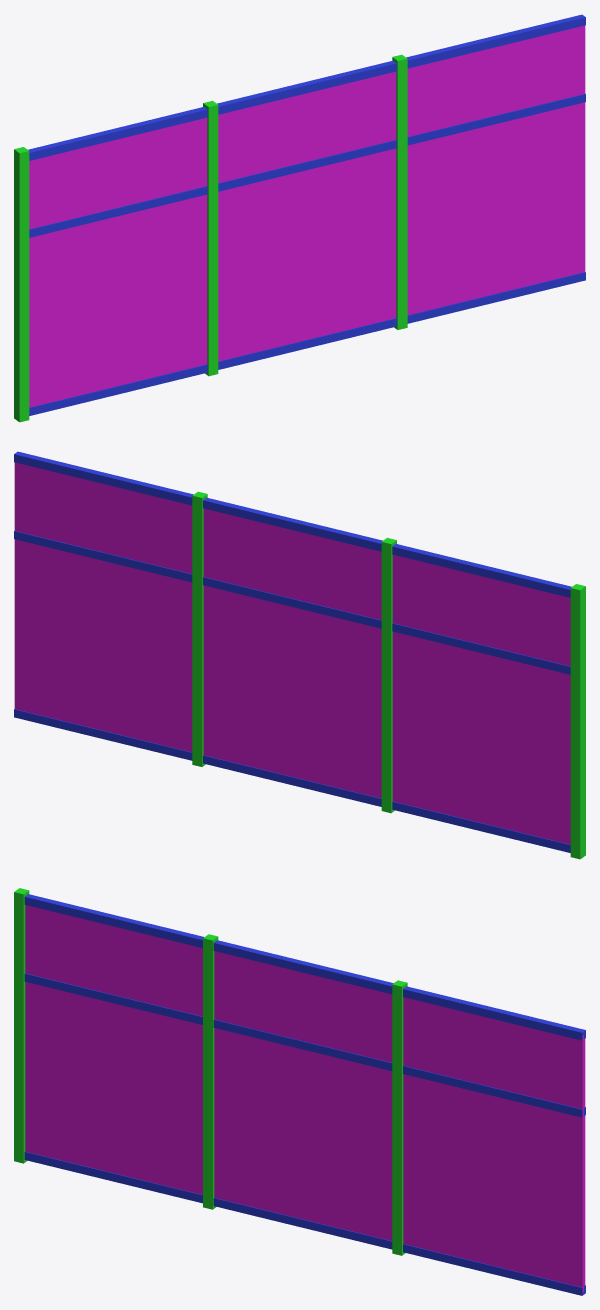
The model's file is Fence_12_B.fbx.
3 views of the same model, one above another, from view 1: azimuth 30°, elevation 25°; view 2: azimuth 150°, elevation 25°; view 3: azimuth 330°, elevation 25° (orthographic).
Visible parts, largest first — view 1: Fence_12_B; view 2: Fence_12_B; view 3: Fence_12_B.
Part boxes in pixels (<box>): Fence_12_B: <box>14,14,585,422</box>; Fence_12_B: <box>14,451,585,859</box>; Fence_12_B: <box>14,888,585,1295</box>.
Size of the model in its own units: 229 by 104 by 3.93.
